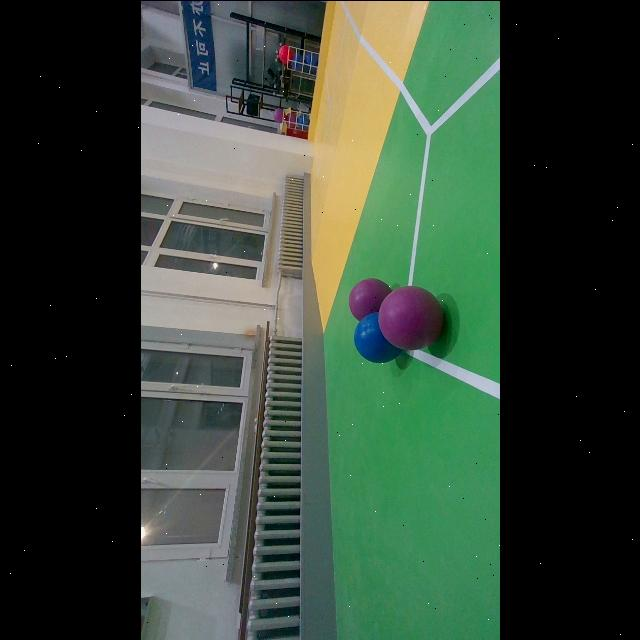B: (353, 310, 401, 362)
P: (378, 285, 446, 349), (347, 278, 393, 322)
